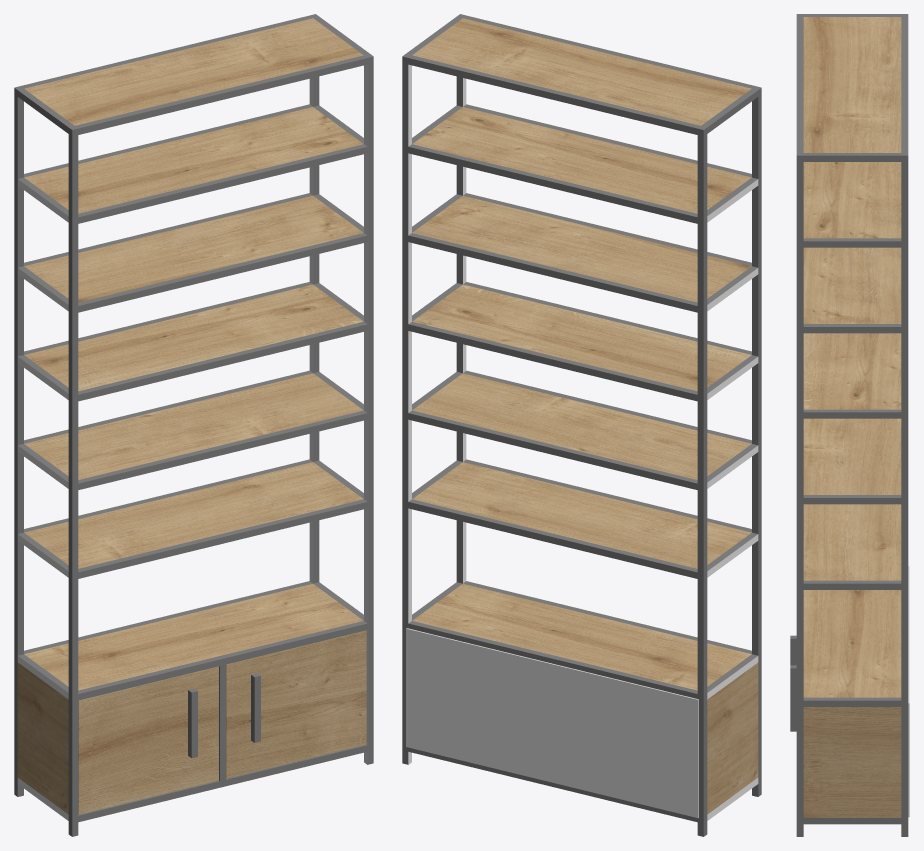
3 renders of one model, left to right at view 1: azimuth 30°, elevation 25°; view 2: azimuth 150°, elevation 25°; view 3: azimuth 270°, elevation 25°, orthographic. The views are drawn at different scales.
Parts seen in each view (by area): view 1: Material2 (×2), Material3; view 2: Material2 (×2), Material3 (×2); view 3: Material2 (×2), Material3.
Boxes of the visible parts, bbox=[...] form: Material2 (×2): bbox=[14, 14, 373, 836]; Material3: bbox=[17, 64, 367, 820]; Material2 (×2): bbox=[402, 14, 761, 836]; Material3 (×2): bbox=[406, 64, 758, 820]; Material2 (×2): bbox=[790, 14, 908, 836]; Material3: bbox=[908, 566, 909, 817].
Size of the model in its own units: 37.8 by 84.65 by 13.46.
6 materials, 2 textured.
